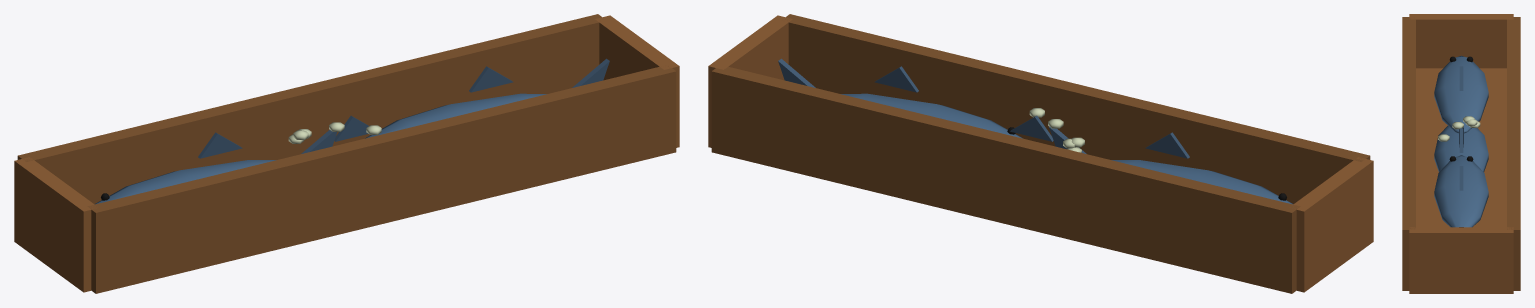
File: Fish_Herring.fbx
3 renders of one model, left to right at view 1: azimuth 30°, elevation 25°; view 2: azimuth 150°, elevation 25°; view 3: azimuth 270°, elevation 25°, orthographic. The views are drawn at different scales.
Visible parts, largest first — view 1: Fish_Herring__Stack, Fish_Herring__Rotten, Fish_Herring; view 2: Fish_Herring__Stack, Fish_Herring, Fish_Herring__Rotten; view 3: Fish_Herring__Stack, Fish_Herring, Fish_Herring__Rotten.
Part boxes in pixels (bbox=[...]): Fish_Herring__Stack: bbox=[14, 14, 679, 293]; Fish_Herring__Rotten: bbox=[288, 122, 381, 143]; Fish_Herring: bbox=[334, 115, 368, 141]; Fish_Herring__Stack: bbox=[708, 14, 1373, 293]; Fish_Herring: bbox=[1010, 115, 1053, 141]; Fish_Herring__Rotten: bbox=[1029, 108, 1084, 152]; Fish_Herring__Stack: bbox=[1402, 14, 1520, 293]; Fish_Herring: bbox=[1434, 126, 1488, 171]; Fish_Herring__Rotten: bbox=[1438, 116, 1480, 141].
Bounding box in the file's own units: 0.308 × 0.046 × 0.0701.
